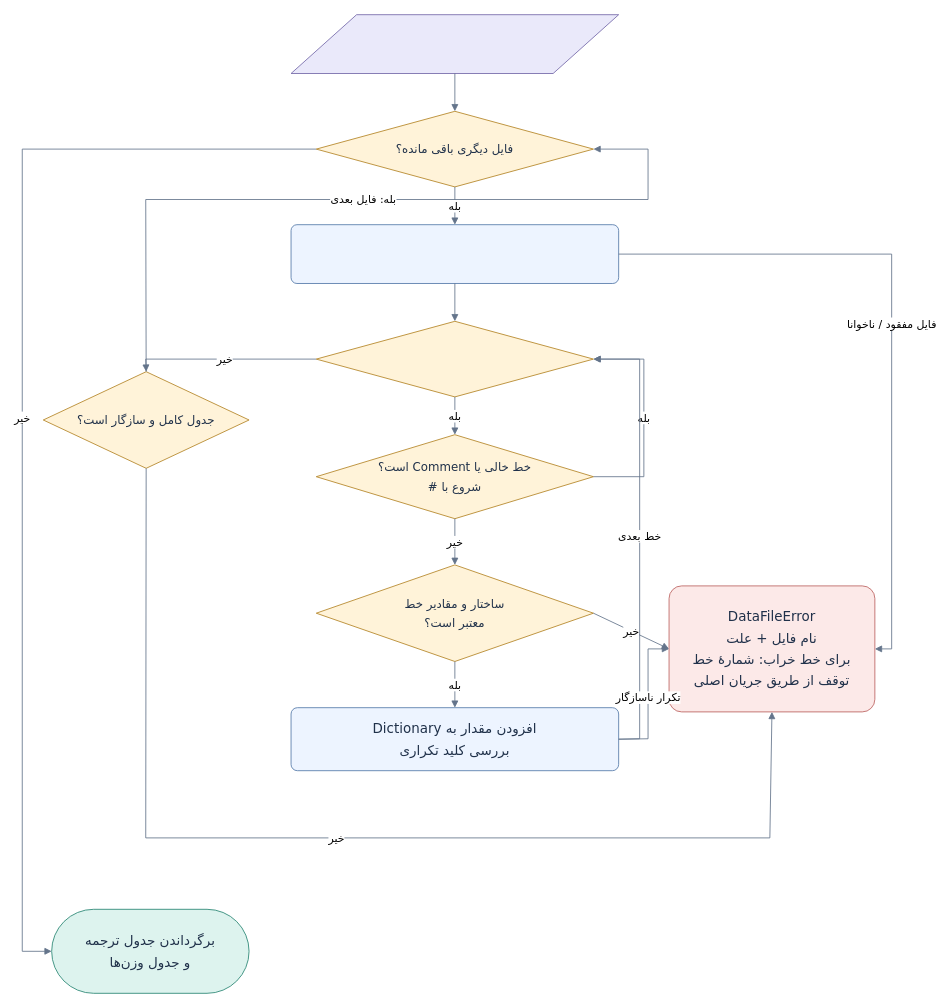
Some shapes in this 951 by 1008 pixel diagram are drawn without their labels. The shapes that lost their labels are listed below. From the top down, each one's box as (x1, y1, x2, y2) in pixels, then its label:
(290, 14, 619, 74): data/codon_table.txt data/amino_weights.txt
(290, 224, 619, 284): بازکردن فایل با UTF-8 ثبت شمارهٔ خط هنگام خواندن
(315, 320, 593, 397): خط دیگری وجود دارد؟
